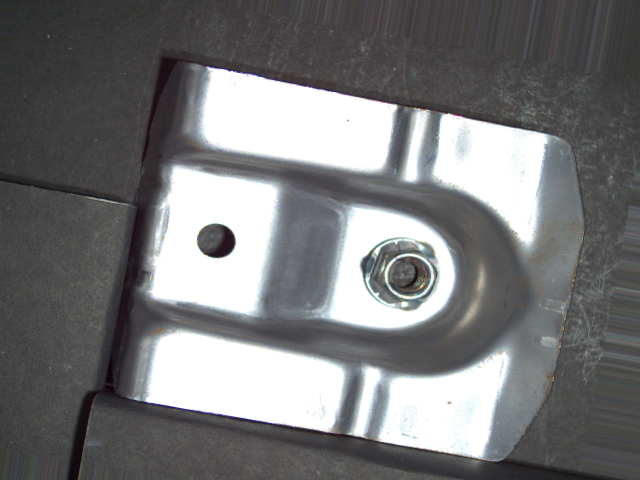good: (354, 229, 449, 315)
